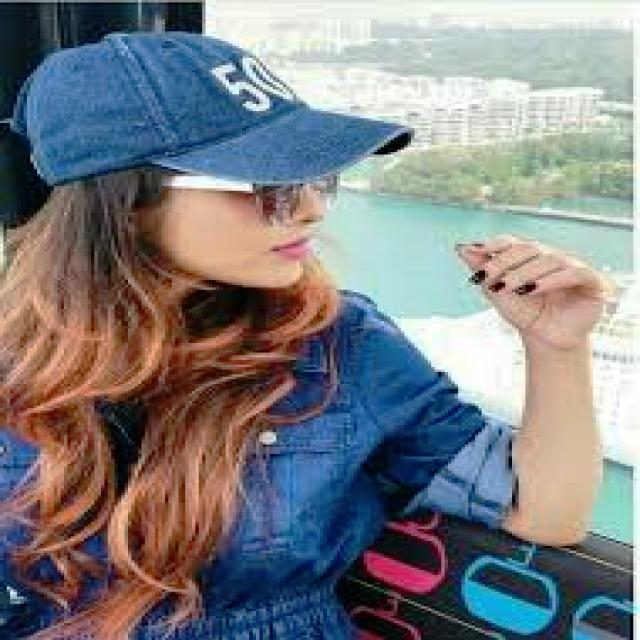TOPI: (8, 7, 445, 210)
